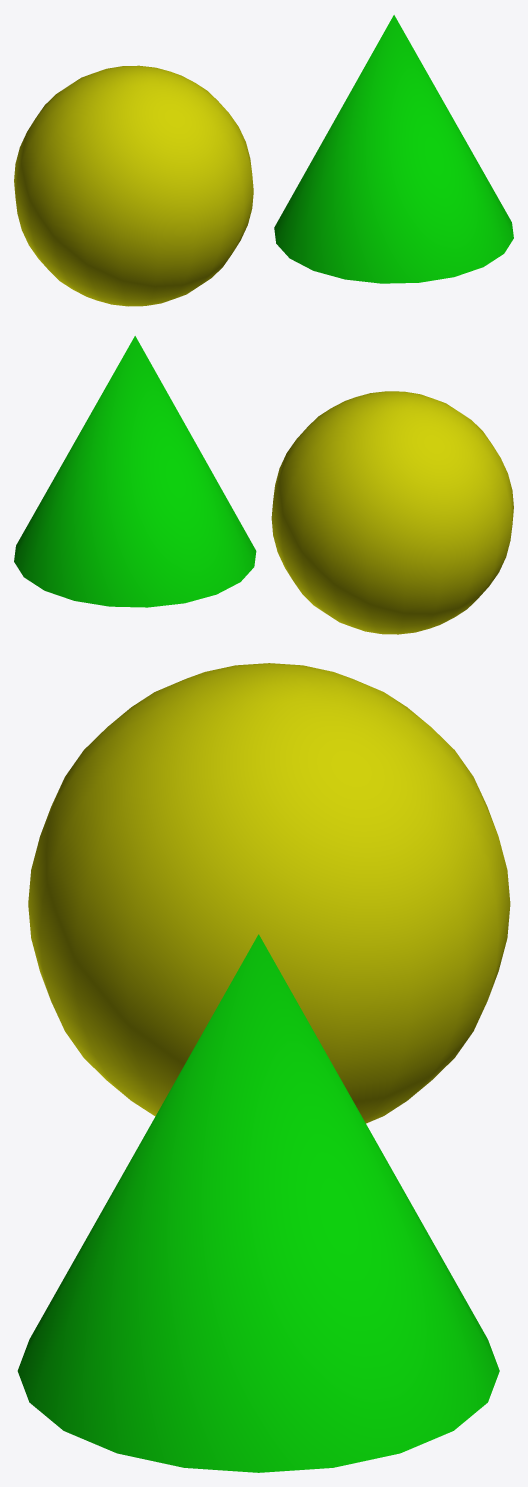
The model's file is sample.dae.
The picture shows the model from 3 angles, top to bottom: view 1: azimuth 30°, elevation 25°; view 2: azimuth 150°, elevation 25°; view 3: azimuth 270°, elevation 25°; orthographic projection. The views are drawn at different scales.
Parts seen in each view (by area): view 1: pSphere1, pCone1; view 2: pSphere1, pCone1; view 3: pSphere1, pCone1.
Boxes of the visible parts, x1=… form: pSphere1: x1=14, y1=65, x2=253, y2=306; pCone1: x1=274, y1=15, x2=513, y2=283; pSphere1: x1=271, y1=391, x2=513, y2=634; pCone1: x1=14, y1=336, x2=256, y2=607; pSphere1: x1=28, y1=663, x2=510, y2=1123; pCone1: x1=17, y1=934, x2=499, y2=1472.
Size of the model in its own units: 4.47 by 2.01 by 2.04.
